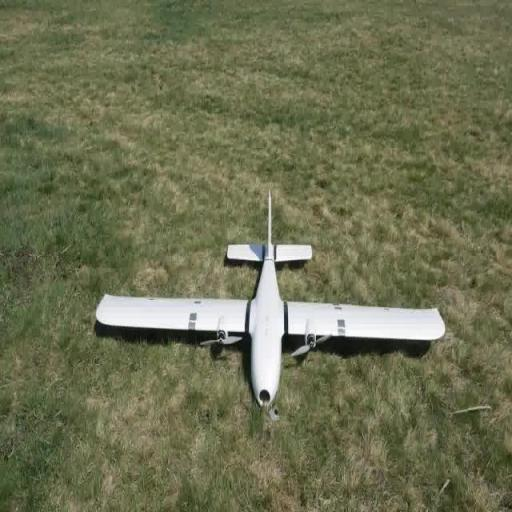uav: (90, 182, 456, 411)
